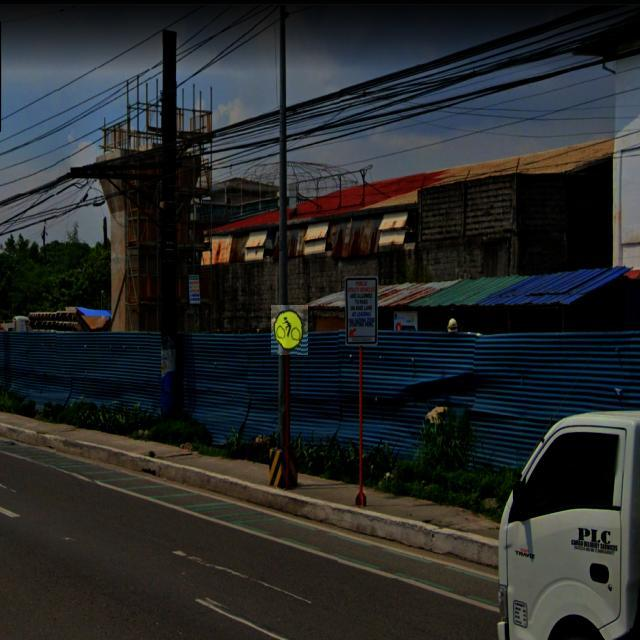bike lane: (271, 305, 308, 355)
